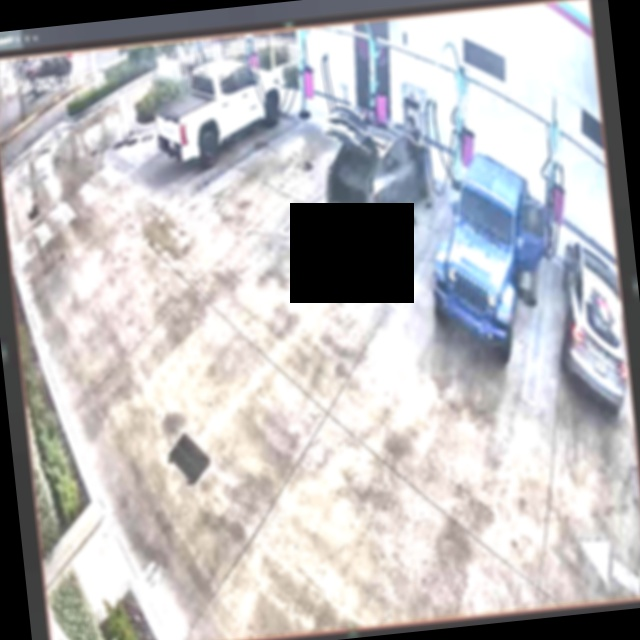Car: (419, 147, 557, 359), (311, 83, 437, 253), (148, 50, 286, 174)
